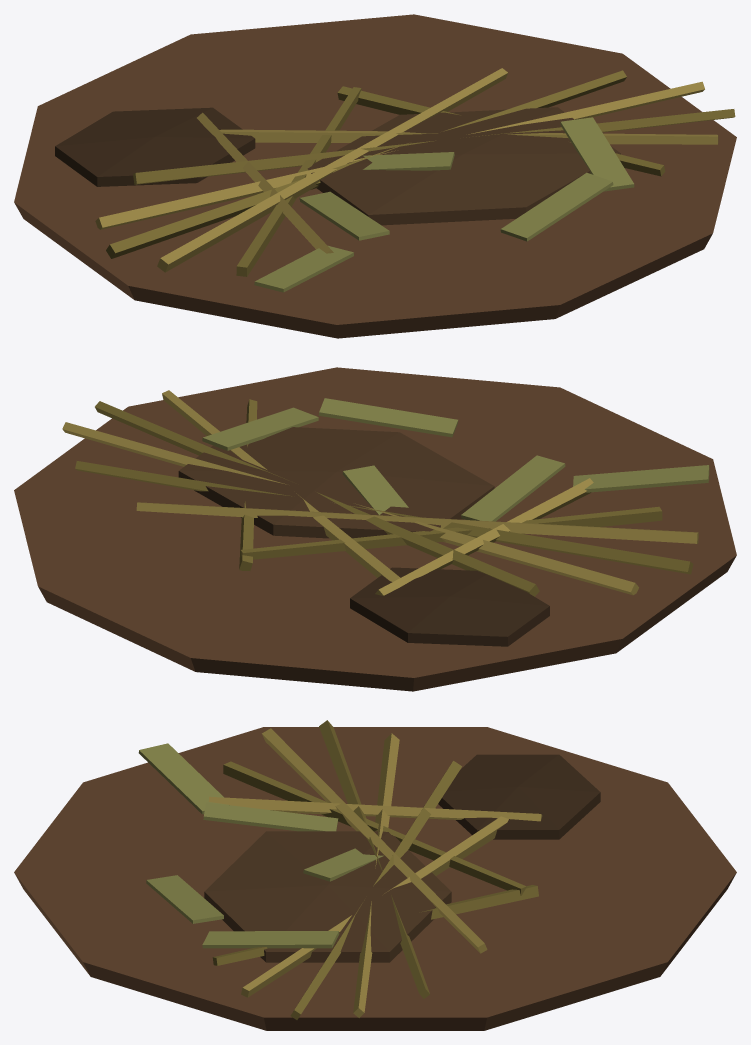
File: trap_pit_cover.glb
The picture shows the model from 3 angles, top to bottom: view 1: azimuth 30°, elevation 25°; view 2: azimuth 150°, elevation 25°; view 3: azimuth 270°, elevation 25°; orthographic projection. The views are drawn at different scales.
Parts seen in each view (by area): view 1: PitCover; view 2: PitCover; view 3: PitCover.
Boxes of the visible parts, x1,y1,x2,y2 form: PitCover: (14, 14, 736, 338); PitCover: (14, 367, 736, 691); PitCover: (14, 720, 736, 1030).
Size of the model in its own units: 1.48 by 0.088 by 1.52.
